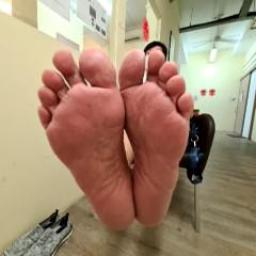Plantar View -Both Feet-: (15, 42, 224, 236)
